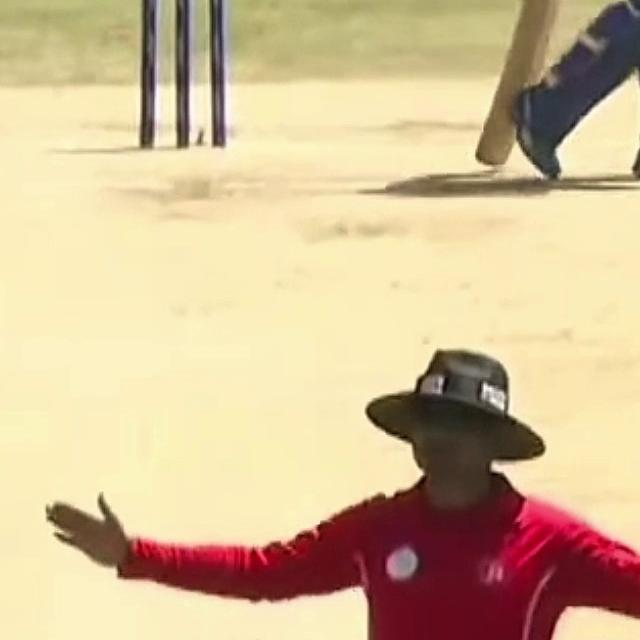umpire: (20, 329, 640, 640)
